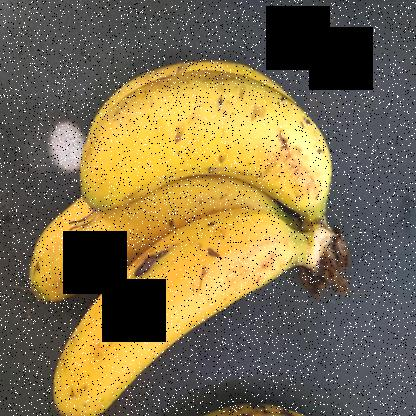ripe: (75, 51, 335, 214), (17, 140, 271, 306), (53, 221, 273, 412)
